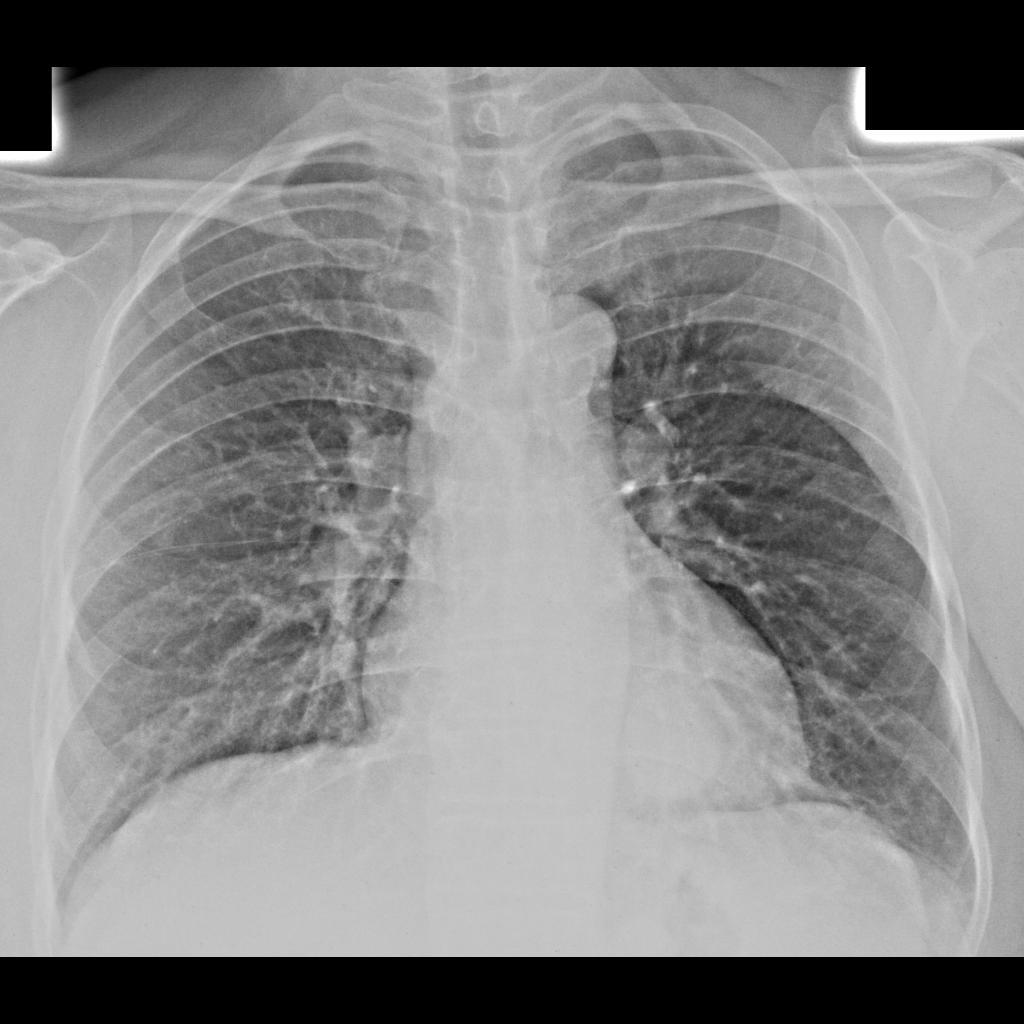Nodule: (627, 701, 724, 798)
